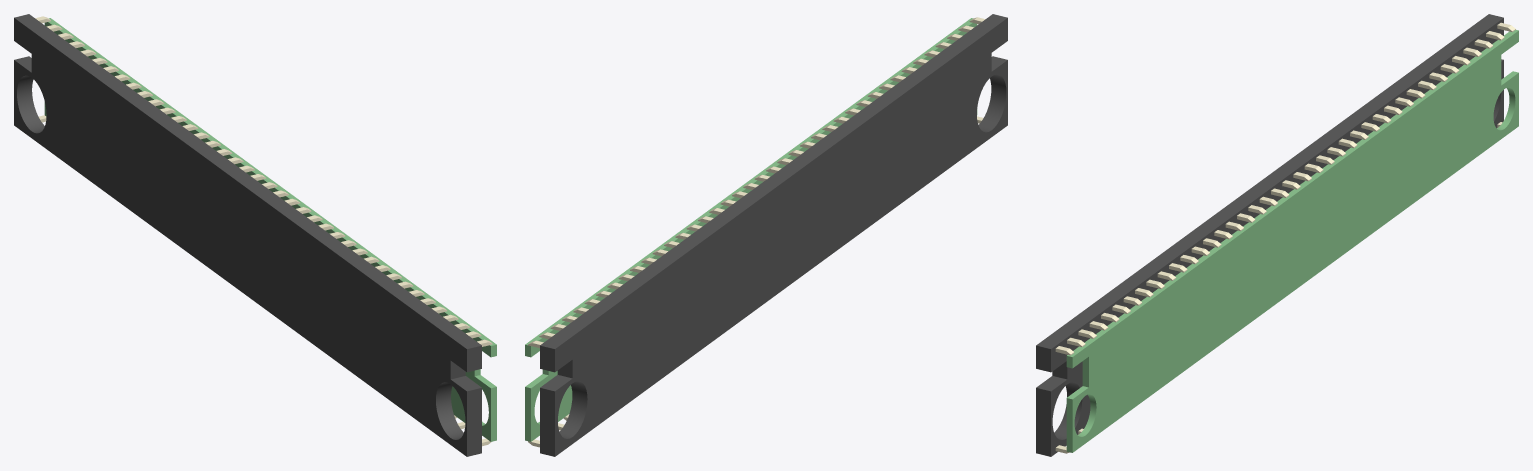
Rendered from Astro_Vac_NavLogicBoard.fbx.
3 views of the same model, side by side, from view 1: azimuth 30°, elevation 25°; view 2: azimuth 150°, elevation 25°; view 3: azimuth 330°, elevation 25° (orthographic).
Parts seen in each view (by area): view 1: Weld (1); view 2: Weld (1); view 3: Weld (1).
Part boxes in pixels (x1=…): Weld (1): x1=14, y1=14, x2=496, y2=456; Weld (1): x1=525, y1=14, x2=1007, y2=456; Weld (1): x1=1036, y1=14, x2=1518, y2=456.
Size of the model in its own units: 0.1397 by 0.4325 by 3.3.
